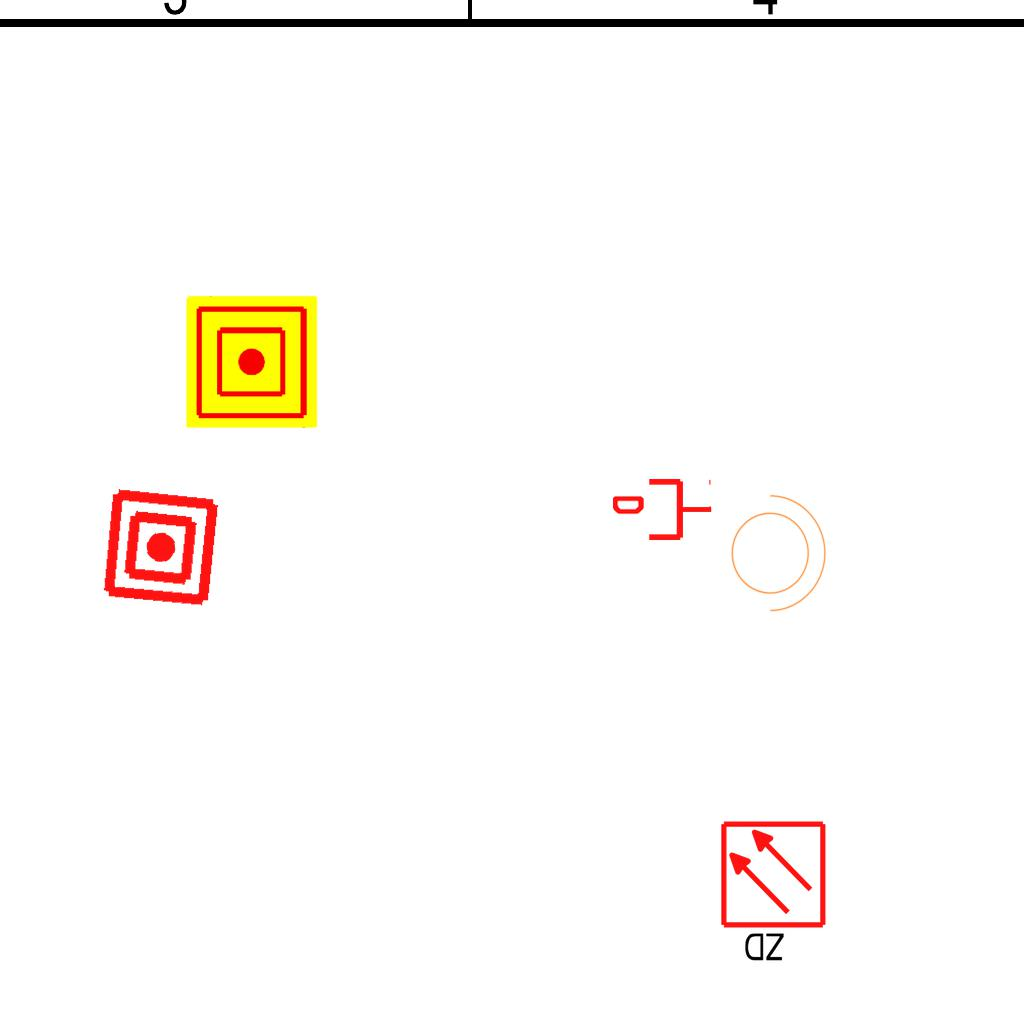Datenanschluss_einfach: (613, 475, 713, 544)
NAM-Nichtautomatischer_Melder: (186, 296, 318, 428), (98, 485, 223, 610)
Scheinwerfer_fuer_Alarmbeleuchtung: (719, 484, 831, 616)
ZD_Melder_in_Zwischendecke_mit_Revisionsoeffnung_mind_40_x_40_cm: (718, 819, 832, 968)
